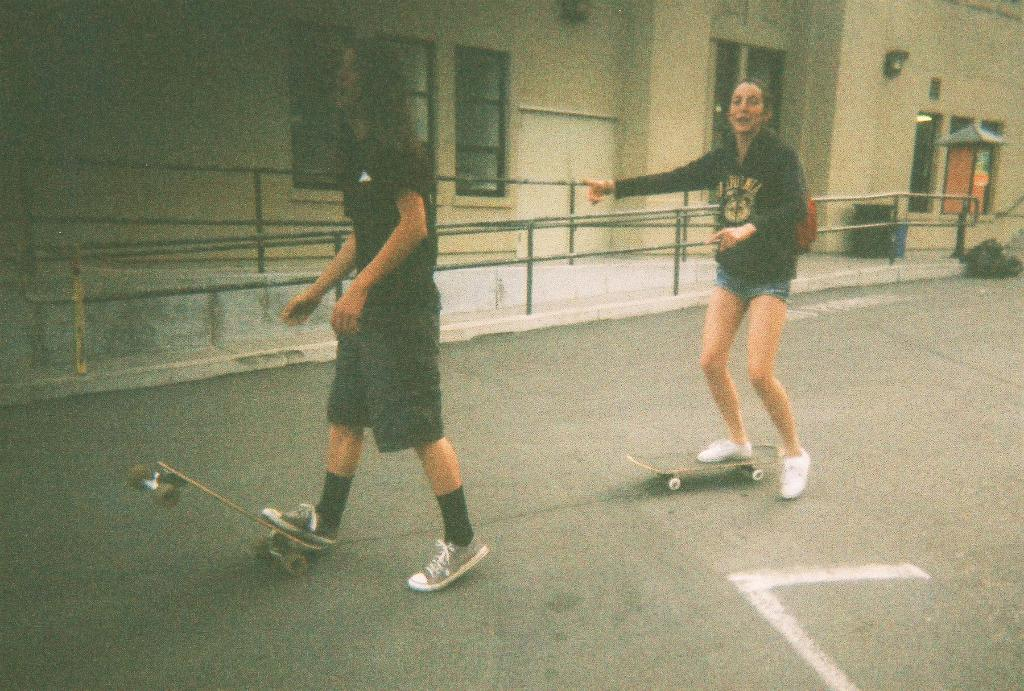Person: (262, 37, 489, 591), (580, 77, 810, 499)
